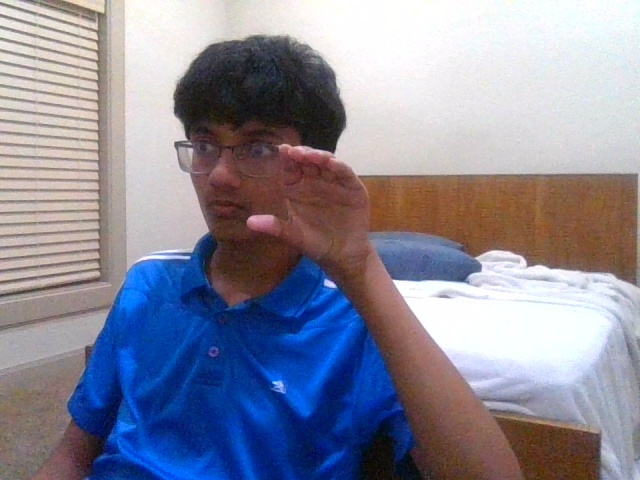no: (247, 144, 369, 256)
